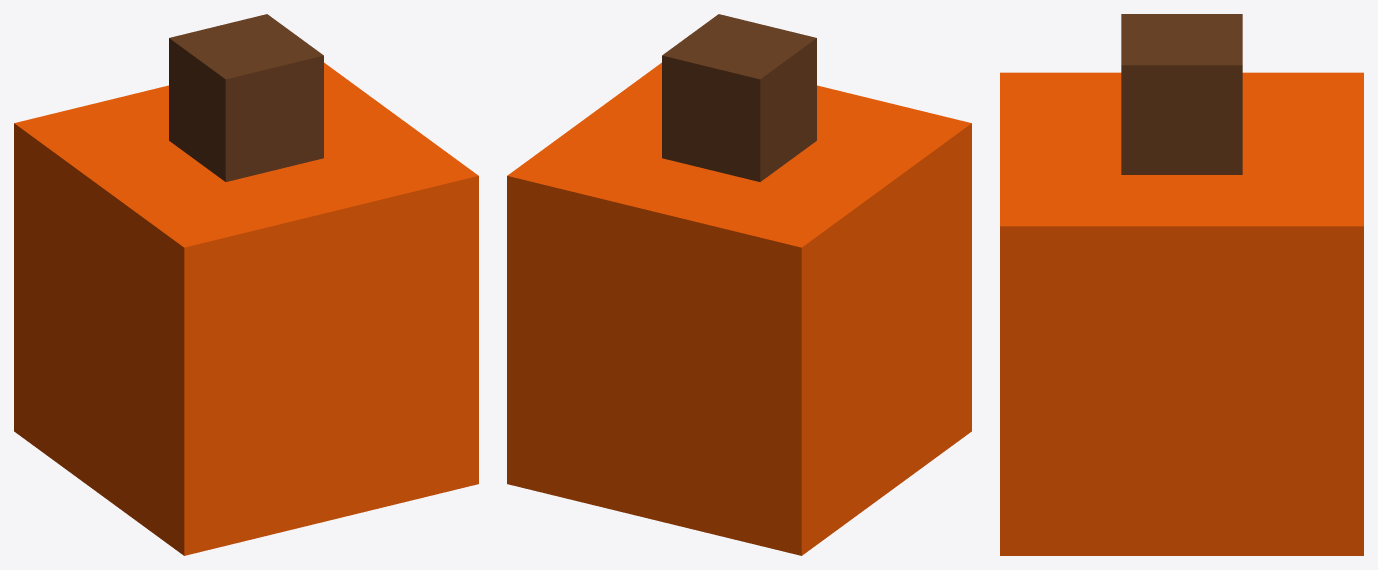
File: pumpkin.dae
The picture shows the model from 3 angles, left to right: view 1: azimuth 30°, elevation 25°; view 2: azimuth 150°, elevation 25°; view 3: azimuth 270°, elevation 25°; orthographic projection. The views are drawn at different scales.
Parts seen in each view (by area): view 1: PlaneCOL; view 2: PlaneCOL; view 3: PlaneCOL.
Boxes of the visible parts, x1,y1,x2,y2 form: PlaneCOL: [14, 14, 478, 555]; PlaneCOL: [507, 14, 971, 555]; PlaneCOL: [1000, 14, 1363, 555].
Bounding box in the file's own units: 0.3 × 0.3 × 0.4.
